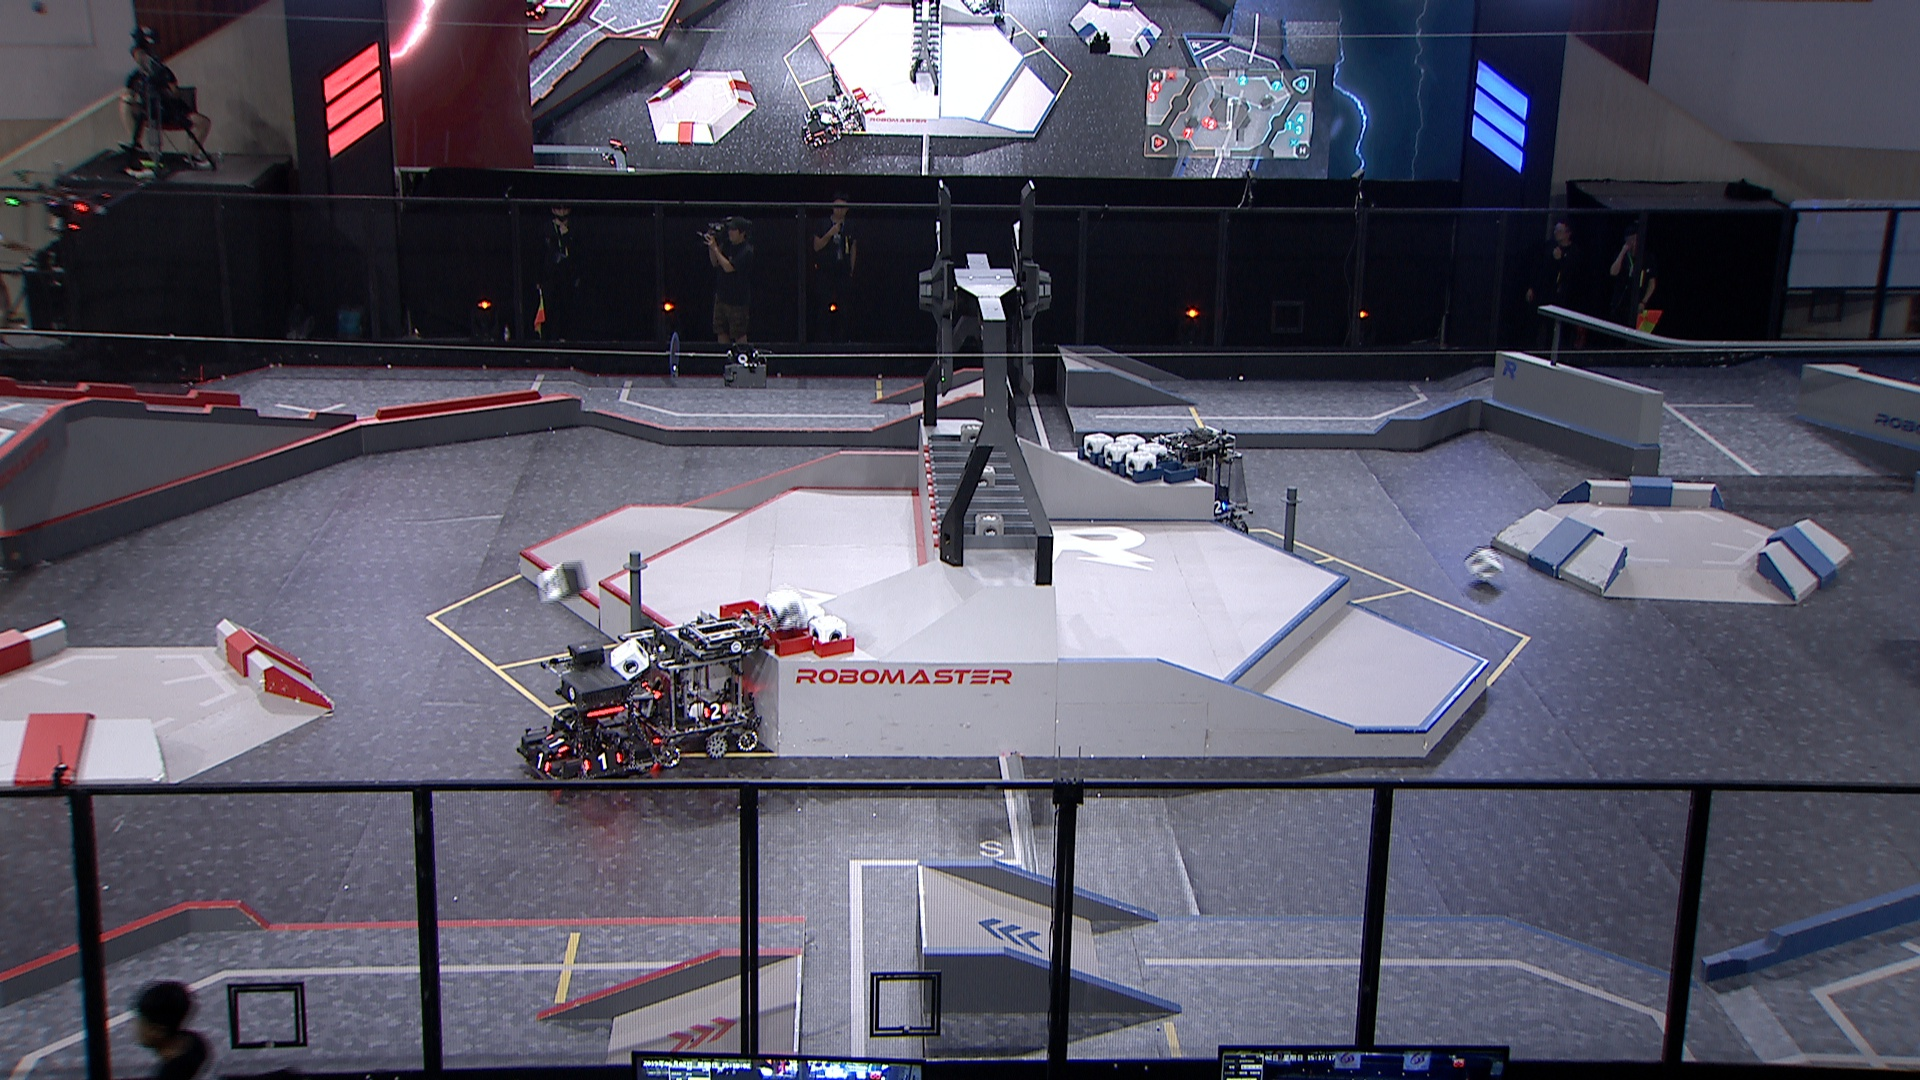armor: (580, 750, 624, 773), (545, 732, 570, 756), (529, 746, 551, 773), (703, 700, 728, 723), (1211, 498, 1229, 516)
car: (618, 611, 761, 769), (513, 655, 659, 796), (1153, 429, 1251, 542)
ignore: (822, 94, 861, 135), (798, 109, 833, 149), (961, 0, 1006, 29), (597, 138, 629, 167)
